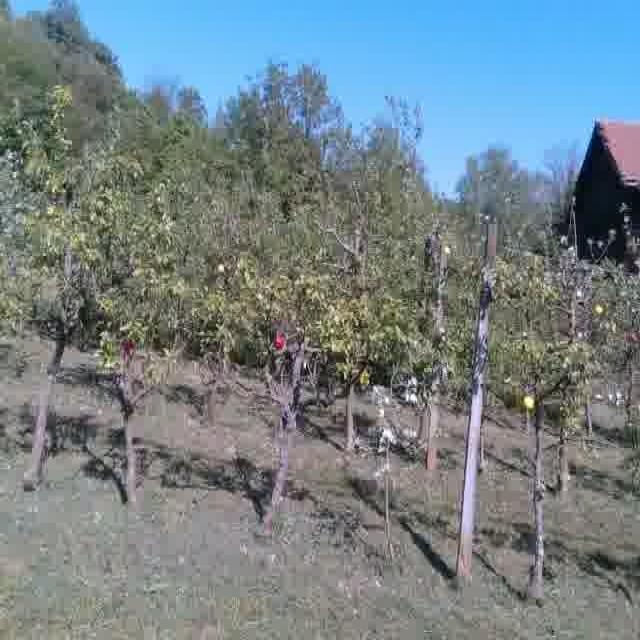red: (121, 336, 137, 358), (273, 330, 289, 351)
yellow: (524, 393, 537, 408), (594, 301, 606, 317)
